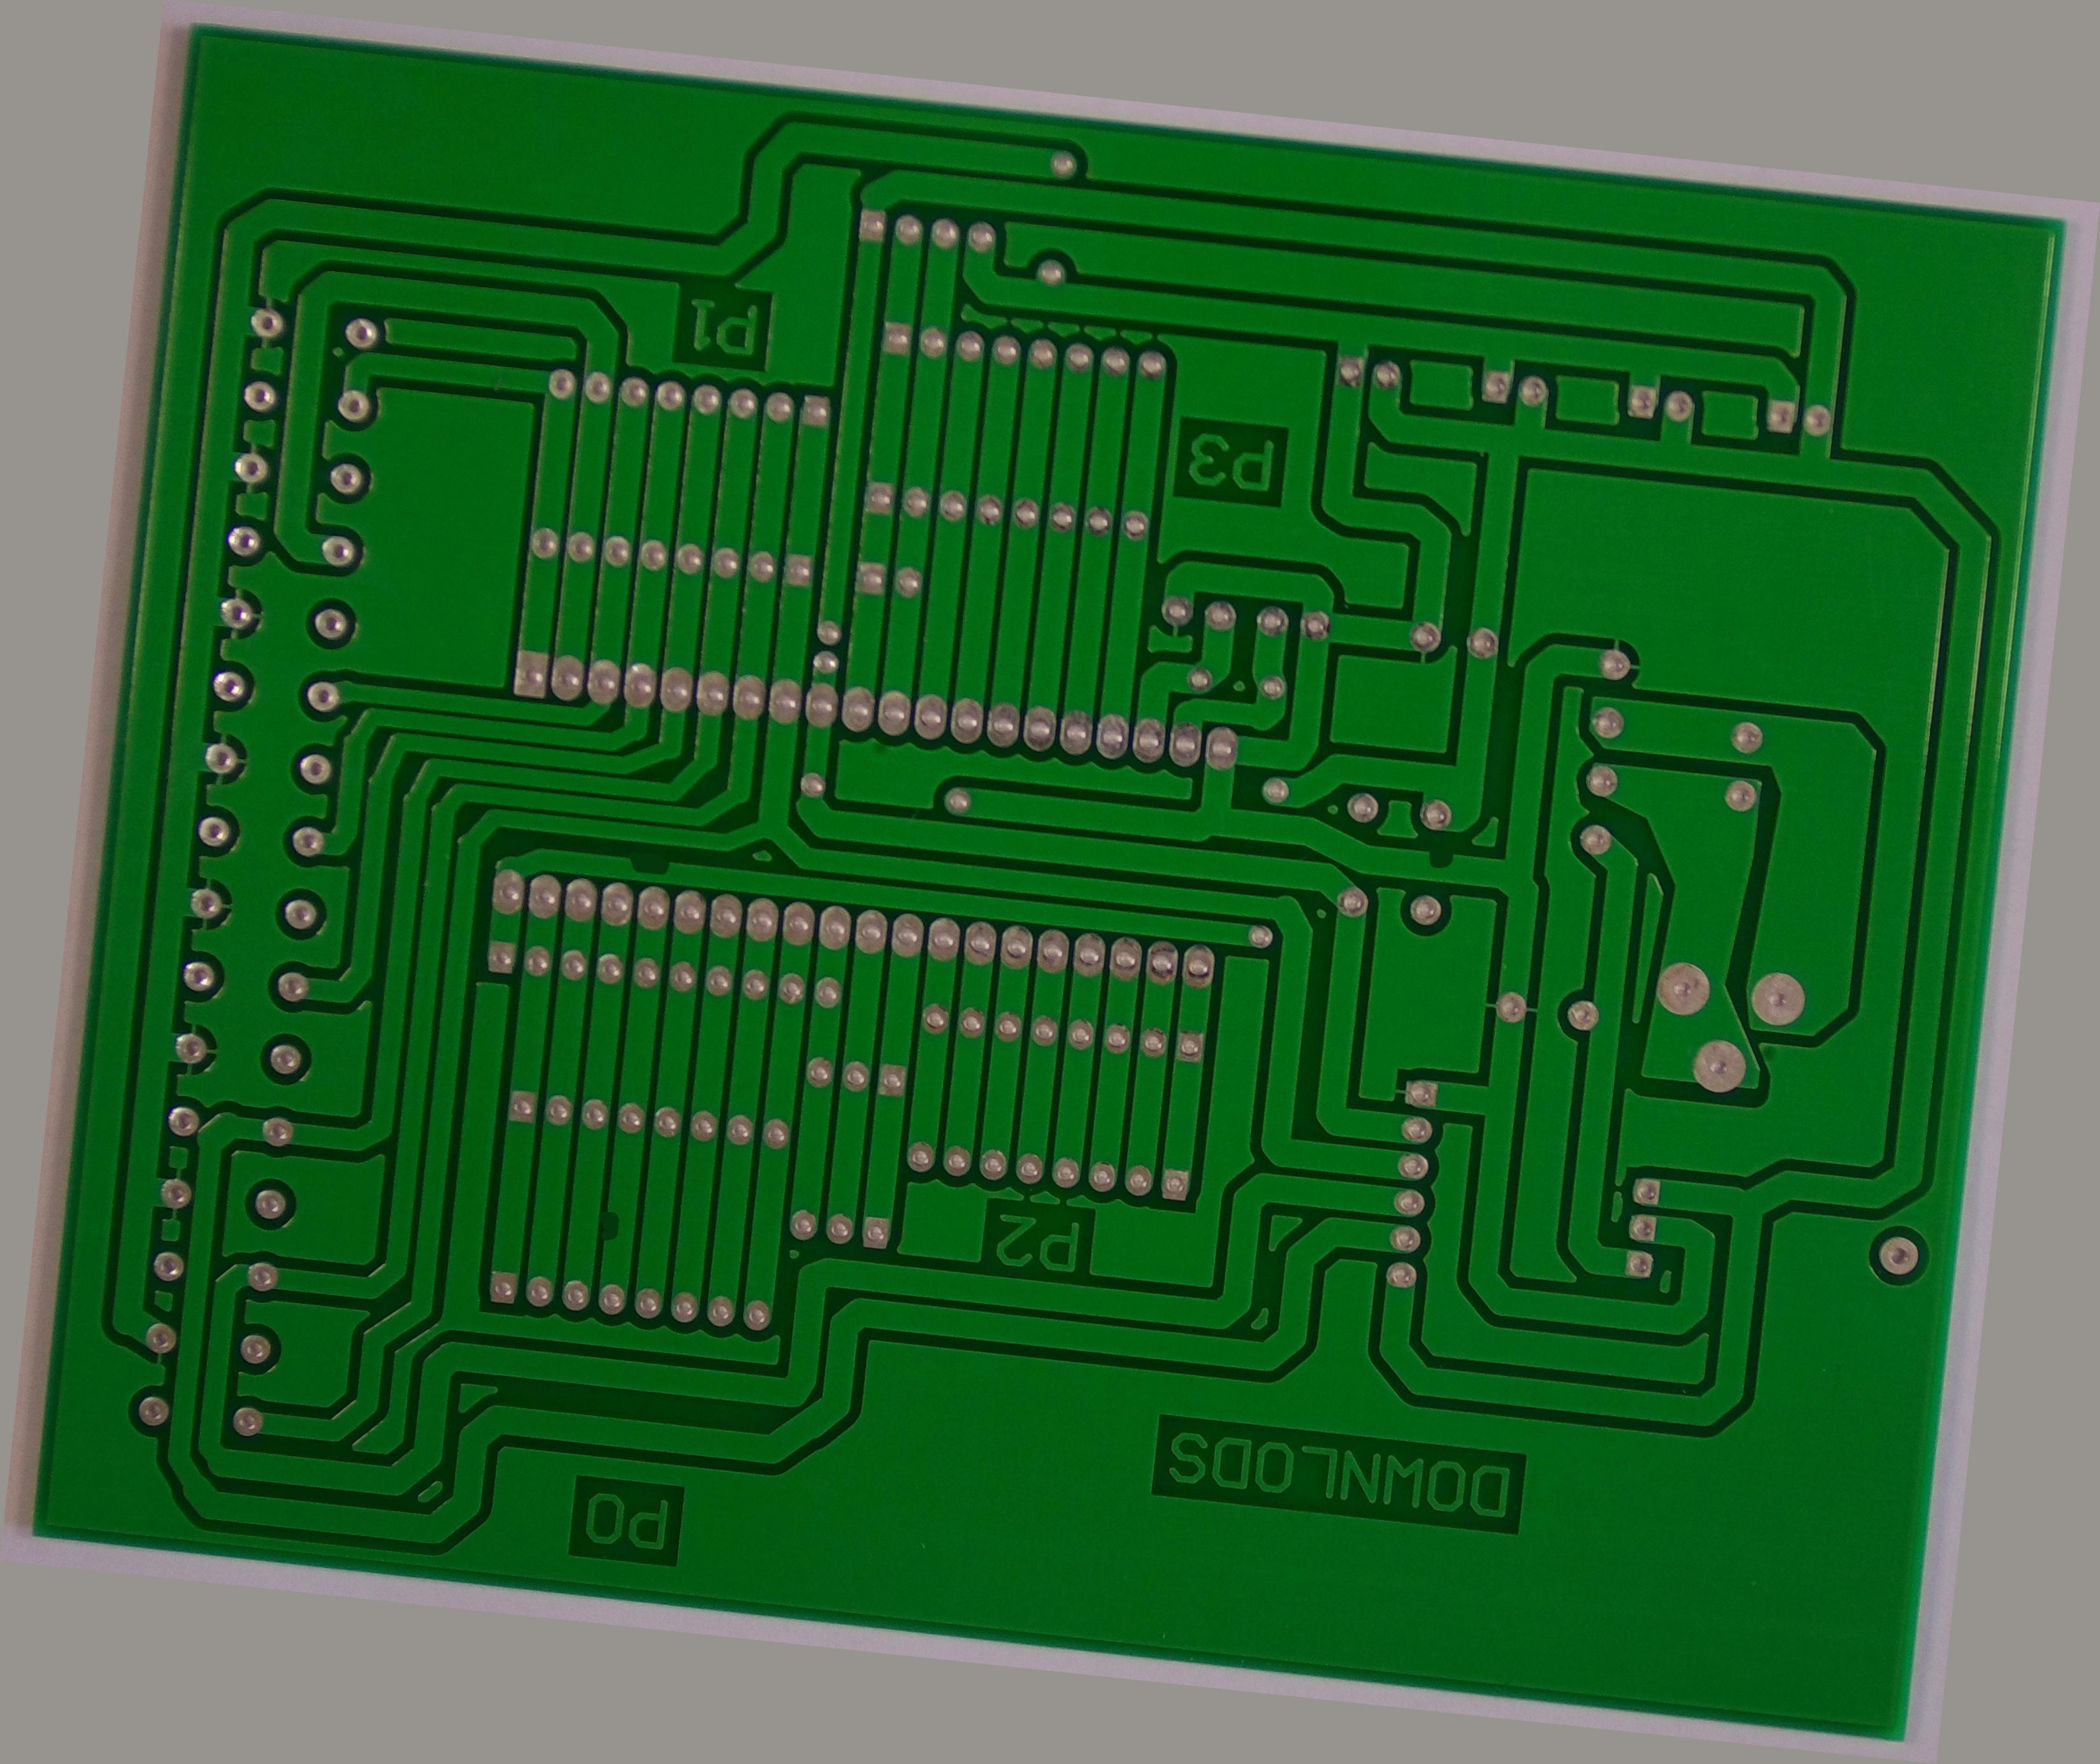mouse_bite: (586, 885, 656, 933), (1431, 782, 1494, 835), (598, 1288, 639, 1346)
